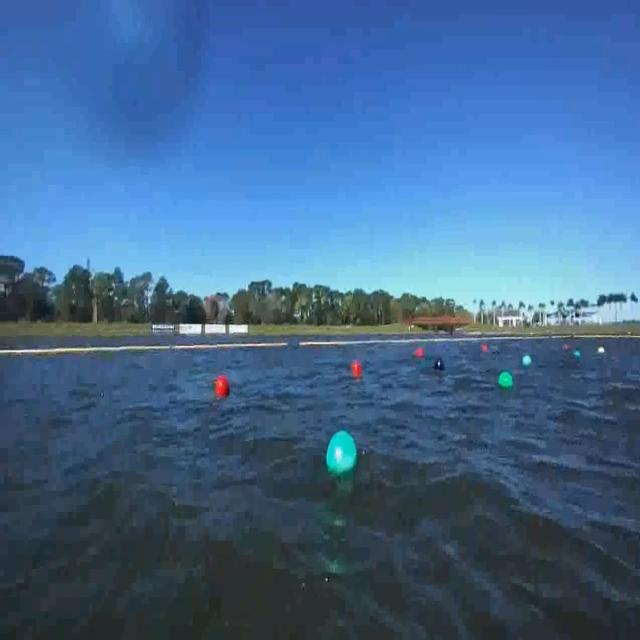black-buoy: (434, 357, 444, 371)
green-buoy: (328, 431, 359, 475), (498, 370, 512, 389), (523, 354, 532, 367)
red-buoy: (216, 375, 230, 399), (351, 359, 363, 378)
